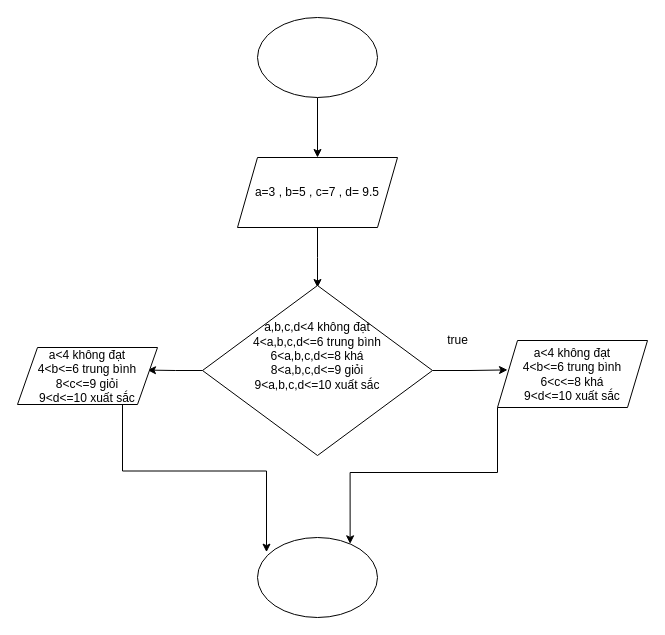
This 665x635 diagram has some shape labels left out. The centre of each missing label's shape, as x and y in pixels:
"end" belongs at [317,577].
"start" belongs at [317,57].
